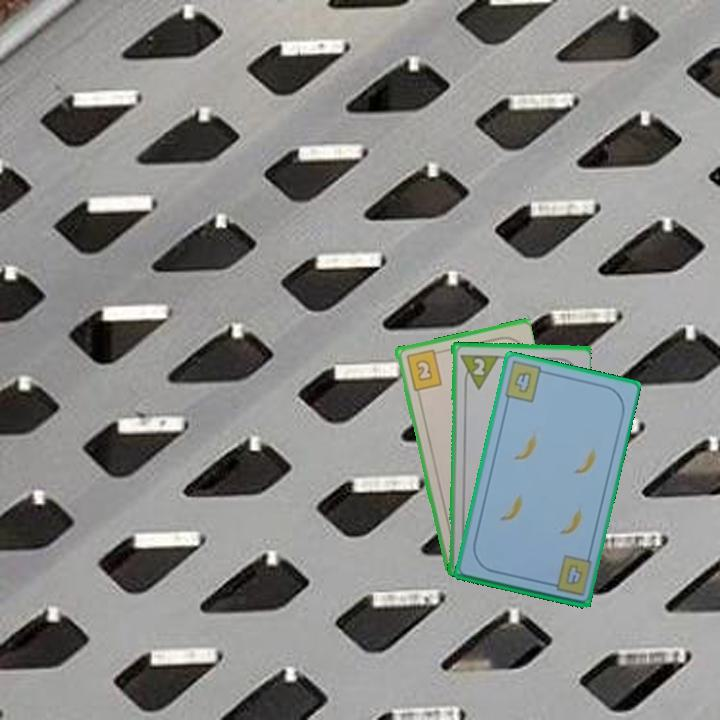2b: (402, 346, 445, 393)
2p: (456, 351, 500, 391)
4b: (501, 359, 551, 405), (561, 560, 585, 587)
